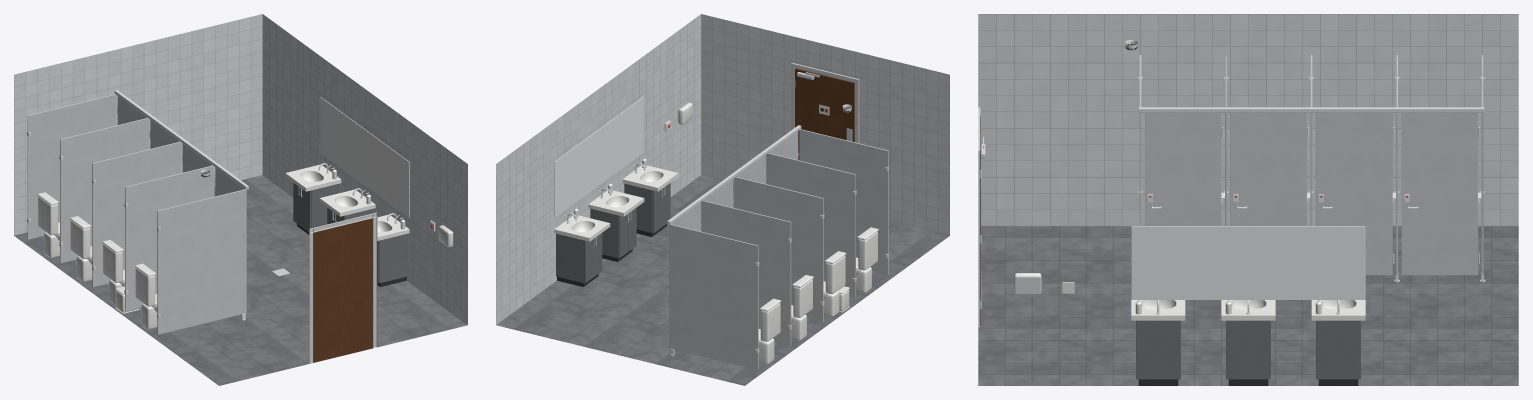
Rendered from rc_toilet.glb.
3 renders of one model, left to right at view 1: azimuth 30°, elevation 25°; view 2: azimuth 150°, elevation 25°; view 3: azimuth 270°, elevation 25°, orthographic. The views are drawn at different scales.
Visible parts, largest first — view 1: wall_z0, wall_x1, floor, part_4, f16_출입문, part_1, part_0, part_2, part_3, mirror_0, f16_출입문_frame, f9_세면대 장 (+16 smaller); view 2: wall_z1, wall_x1, floor, part_0, part_1, part_4, part_2, mirror_0, part_3, f16_출입문, f9_세면대 장, f11_세면대 장 (+18 smaller); view 3: wall_x0, floor, mirror_0, part_5, part_6, part_7, part_8, deco_stall_hw, f9_세면대 장, f11_세면대 장, f13_세면대 장, f8_세면대 (+7 smaller).
Boxes of the visible parts, bbox=[...] form: wall_z0: bbox=[14, 14, 262, 235]; wall_x1: bbox=[262, 14, 467, 324]; floor: bbox=[14, 175, 467, 385]; part_4: bbox=[157, 189, 246, 334]; f16_출입문: bbox=[313, 218, 372, 362]; part_1: bbox=[60, 118, 149, 263]; part_0: bbox=[27, 94, 116, 239]; part_2: bbox=[92, 141, 181, 287]; part_3: bbox=[125, 165, 214, 310]; mirror_0: bbox=[320, 97, 409, 217]; f16_출입문_frame: bbox=[309, 212, 377, 363]; f9_세면대 장: bbox=[293, 183, 339, 234]; wall_z1: bbox=[701, 14, 949, 235]; wall_x1: bbox=[496, 14, 701, 324]; floor: bbox=[496, 175, 949, 385]; part_0: bbox=[669, 224, 758, 369]; part_1: bbox=[702, 200, 791, 345]; part_4: bbox=[799, 129, 888, 274]; part_2: bbox=[734, 177, 823, 322]; mirror_0: bbox=[554, 97, 643, 217]; part_3: bbox=[767, 153, 855, 298]; f16_출입문: bbox=[794, 68, 854, 160]; f9_세면대 장: bbox=[556, 233, 602, 286]; f11_세면대 장: bbox=[590, 208, 636, 261]; wall_x0: bbox=[978, 14, 1518, 226]; floor: bbox=[978, 226, 1518, 385]; mirror_0: bbox=[1131, 226, 1365, 299]; part_5: bbox=[1401, 113, 1477, 275]; part_6: bbox=[1316, 113, 1392, 275]; part_7: bbox=[1230, 113, 1306, 226]; part_8: bbox=[1145, 113, 1221, 226]; deco_stall_hw: bbox=[1138, 77, 1485, 282]; f9_세면대 장: bbox=[1316, 320, 1360, 385]; f11_세면대 장: bbox=[1226, 320, 1270, 385]; f13_세면대 장: bbox=[1136, 320, 1180, 385]; f8_세면대: bbox=[1311, 300, 1365, 320].
Bounding box in the file's own units: 4.21 × 2.61 × 6.
21 materials, 6 textured.
